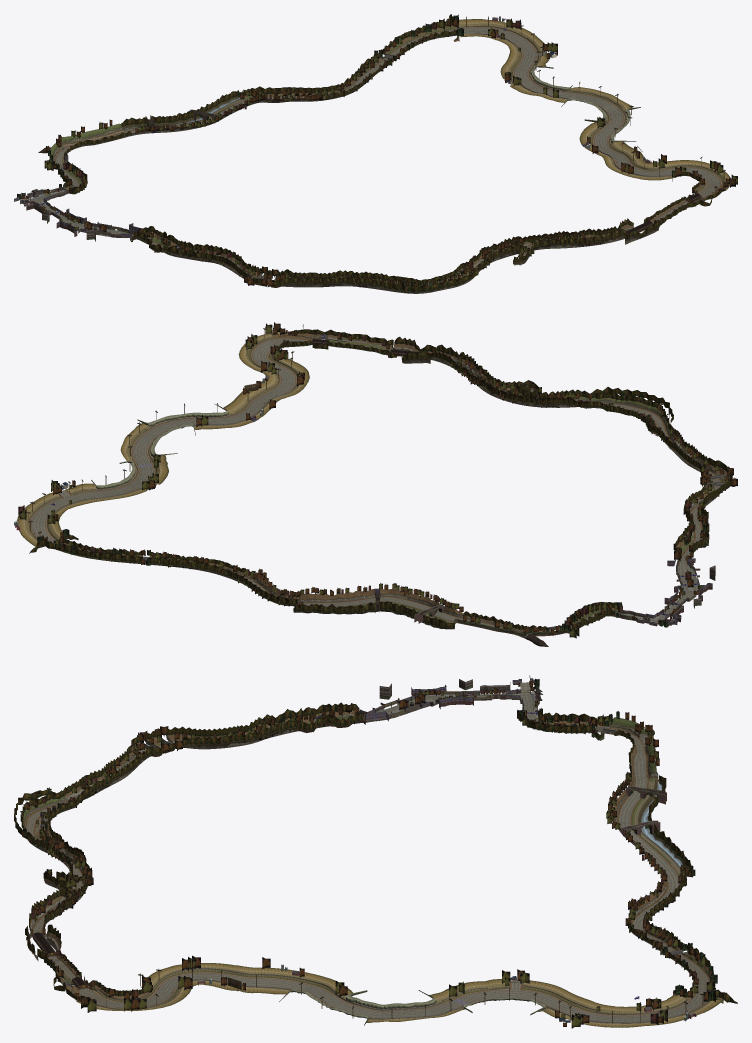
The model's file is hometown.glb.
3 renders of one model, top to bottom at view 1: azimuth 30°, elevation 25°; view 2: azimuth 150°, elevation 25°; view 3: azimuth 270°, elevation 25°, orthographic. The views are drawn at different scales.
Parts seen in each view (by area): view 1: mesh; view 2: mesh; view 3: mesh.
Part boxes in pixels (x1=…): mesh: x1=14, y1=14, x2=737, y2=293; mesh: x1=14, y1=322, x2=737, y2=646; mesh: x1=14, y1=675, x2=737, y2=1028.
Size of what is drawn, in the model's own units: 1796 by 109 by 1561.
Materials: 1 (1 with a texture image).
